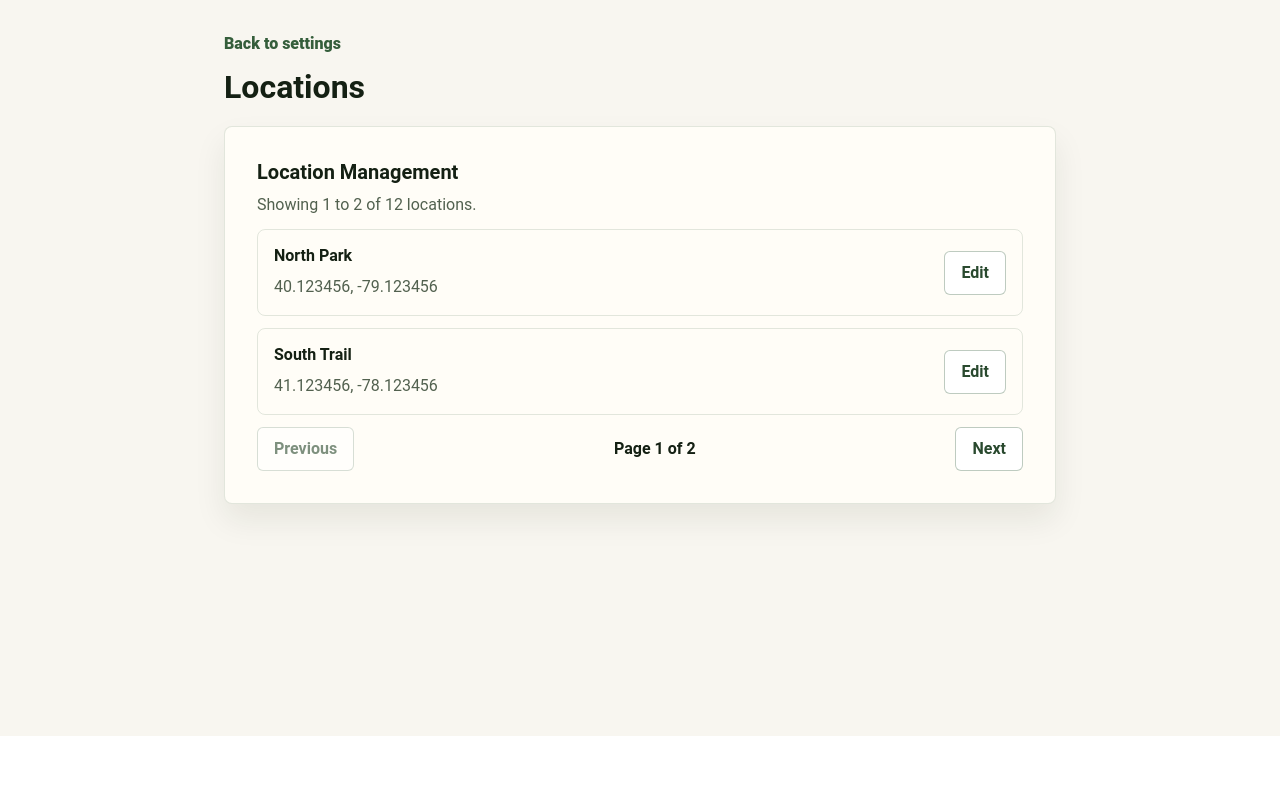
Scenario: LocationSettingsView › renders update errors in the modal
Click the button "Edit" in the row of "North Park" at (975, 273), box x1=944 y1=251 x2=1006 y2=295
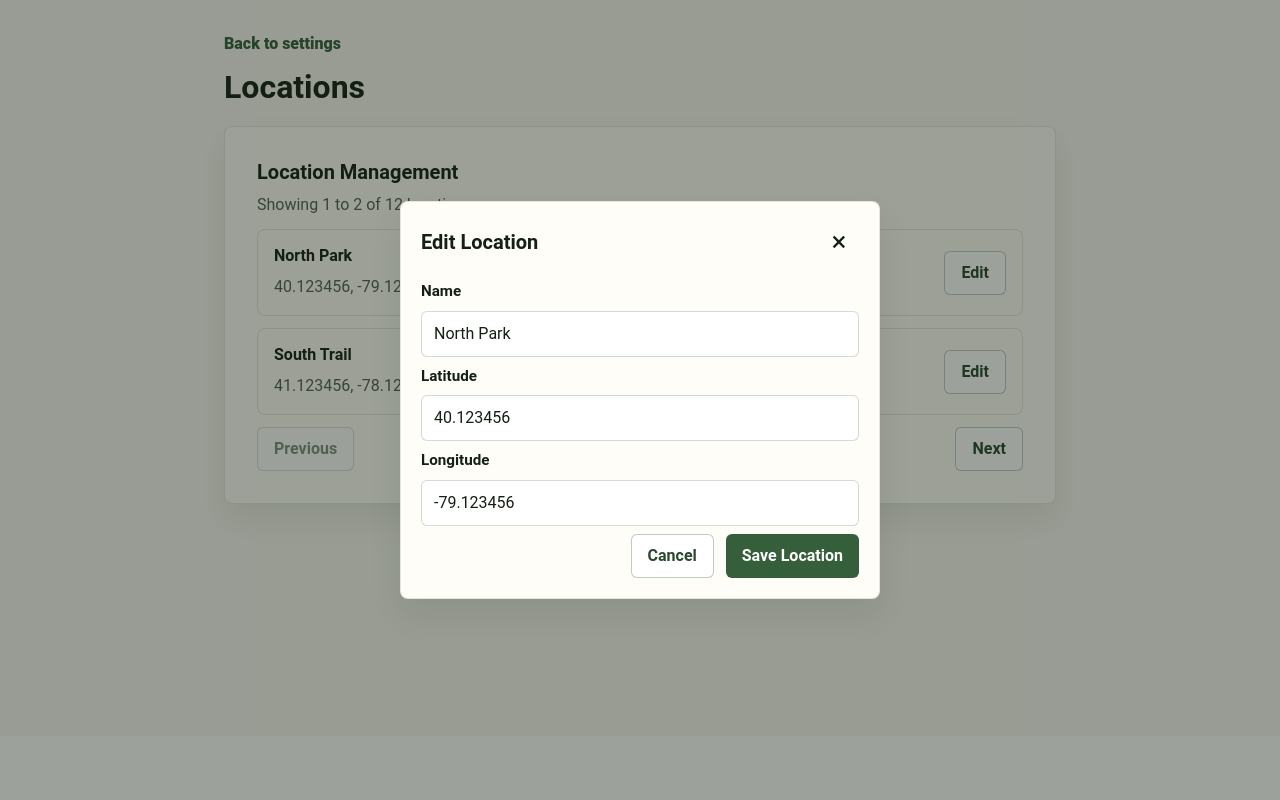
Submit the form with class "location-form", box x1=421 y1=280 x2=859 y2=578
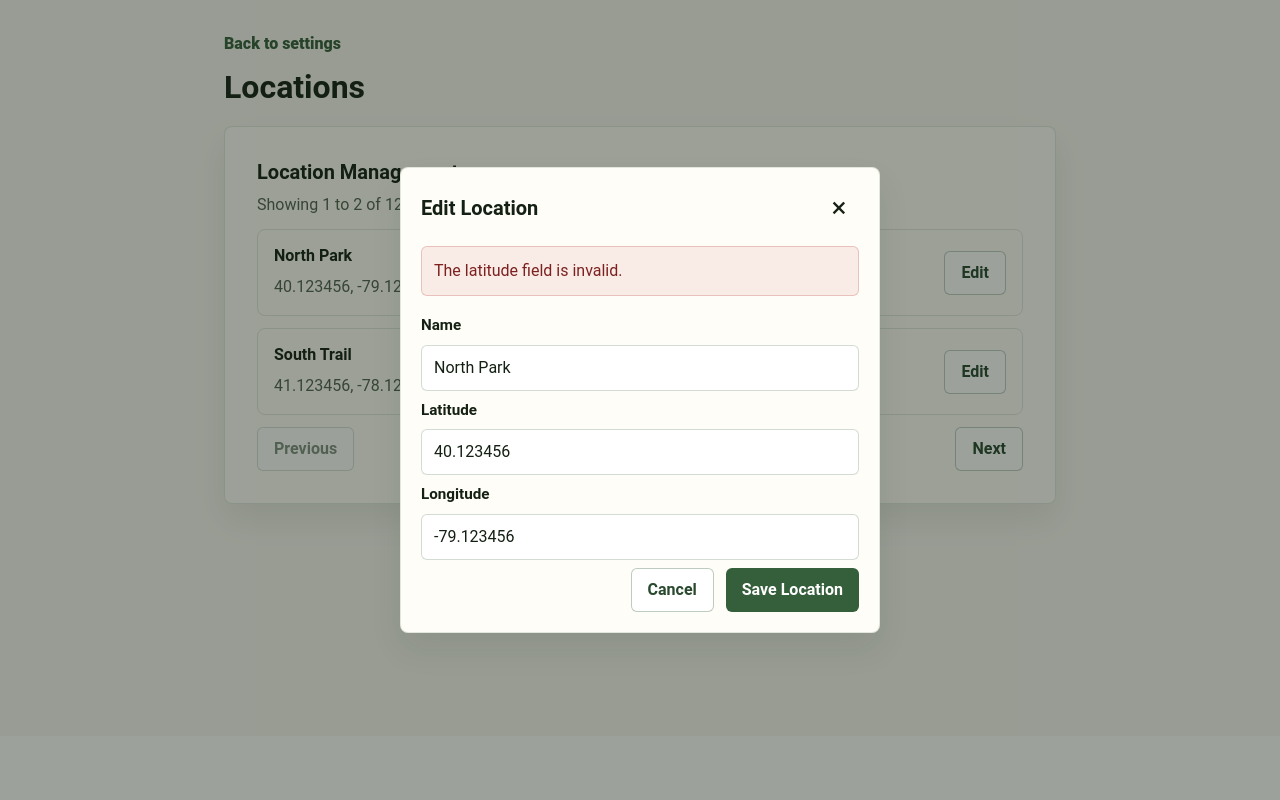
Expected: the dialog with class "modal-panel" is shown, x1=400 y1=167 x2=880 y2=633
Expected: the text "The latitude field is invalid." is shown, x1=421 y1=246 x2=859 y2=296
